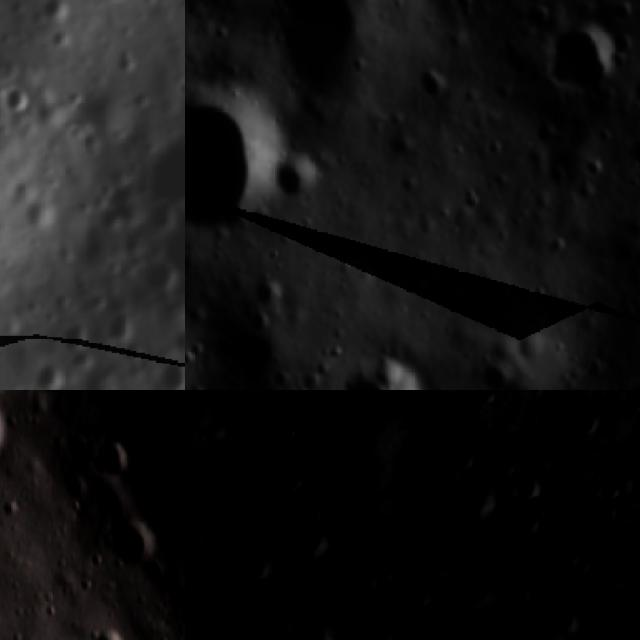crater: (185, 95, 280, 238), (267, 0, 378, 121), (312, 390, 412, 470), (544, 15, 635, 102), (216, 311, 292, 386), (318, 345, 435, 390), (143, 190, 185, 296), (185, 390, 232, 472), (142, 121, 185, 205), (273, 149, 326, 210), (91, 530, 162, 565), (344, 474, 396, 520), (240, 272, 288, 318), (89, 440, 137, 486), (412, 60, 456, 110), (292, 525, 339, 565), (458, 483, 499, 527), (100, 297, 137, 345), (27, 353, 71, 390), (546, 596, 583, 640), (572, 554, 613, 593), (0, 78, 38, 118), (236, 549, 276, 587), (48, 319, 88, 356), (200, 492, 240, 529), (289, 608, 335, 640), (511, 472, 551, 507), (150, 355, 185, 390), (478, 354, 512, 390), (567, 406, 601, 442), (512, 510, 548, 540), (34, 0, 71, 29), (616, 128, 640, 171), (272, 414, 298, 451), (594, 482, 633, 506), (627, 398, 640, 458), (628, 72, 640, 115), (621, 390, 640, 416), (91, 626, 125, 640), (425, 390, 468, 399), (630, 248, 640, 285)
